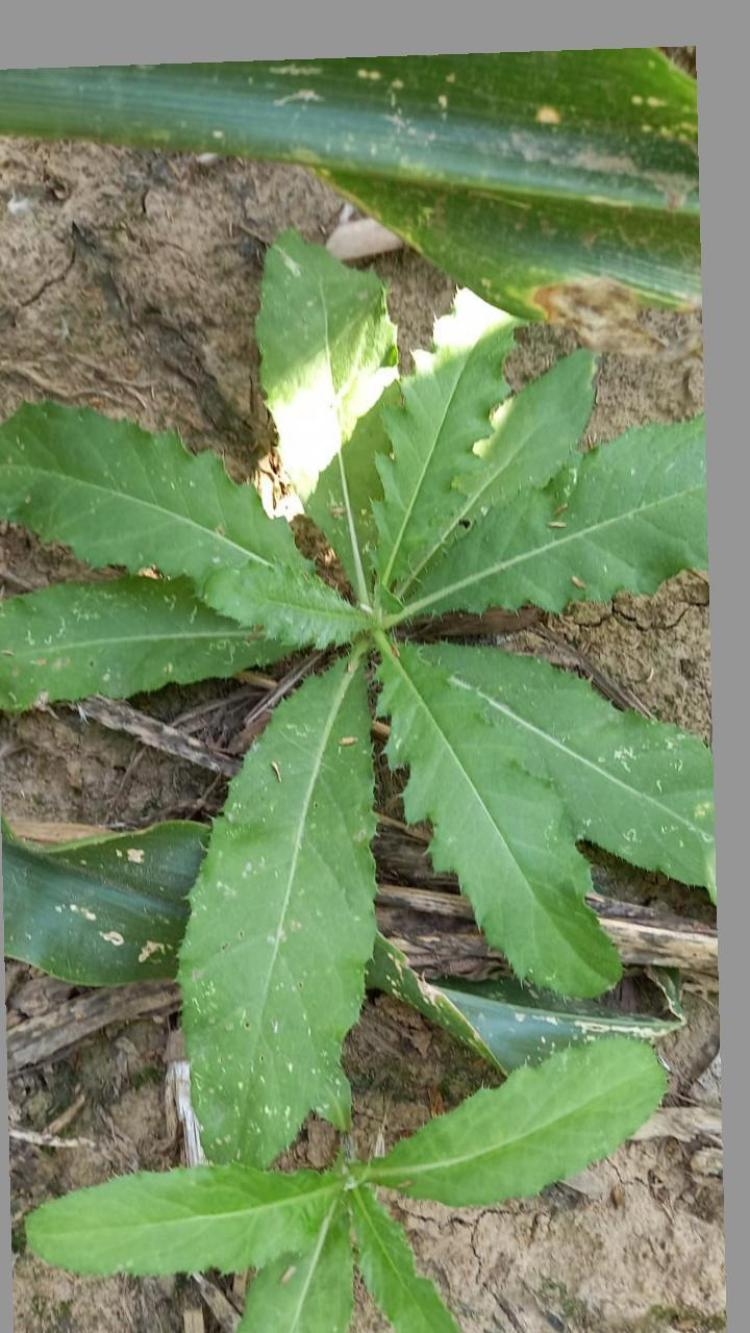osot: (0, 231, 750, 1177)
